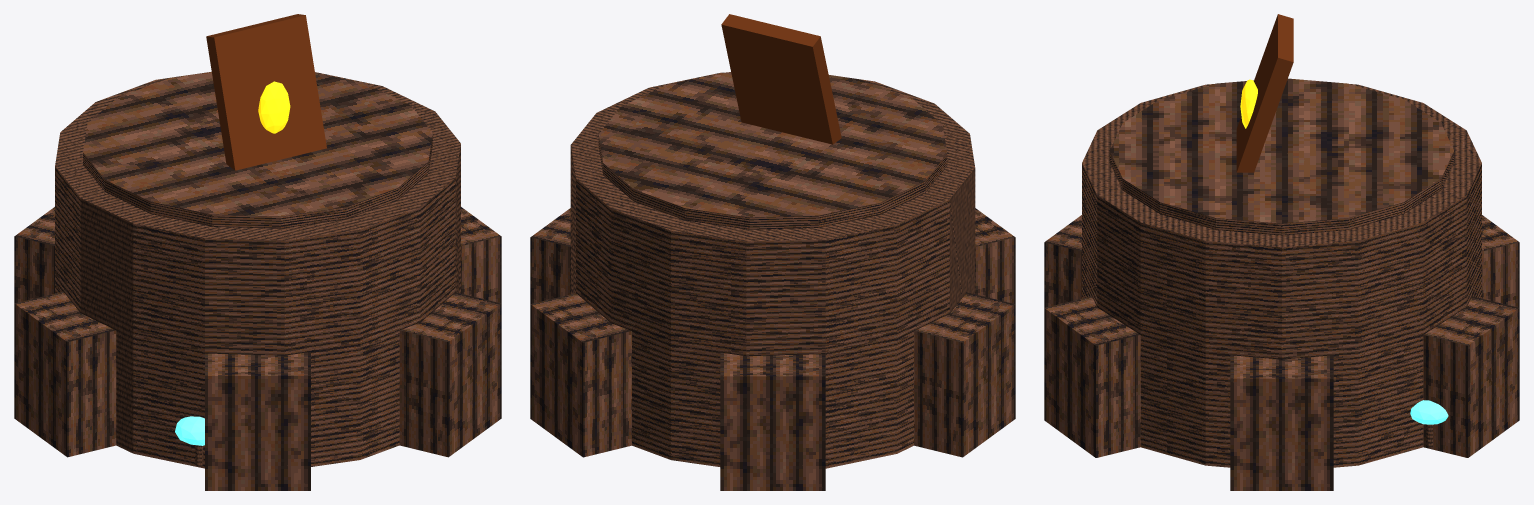
The model's file is altar_corteza.glb.
3 renders of one model, left to right at view 1: azimuth 30°, elevation 25°; view 2: azimuth 150°, elevation 25°; view 3: azimuth 270°, elevation 25°, orthographic. The views are drawn at different scales.
Visible parts, largest first — view 1: Cylinder, Cylinder.001, Cube.004, Cube.003, Cube.005, Cube.006, Cube, Cube.002, Icosphere, Icosphere.003; view 2: Cylinder, Cylinder.001, Cube.002, Cube.003, Cube.001, Cube.006, Cube, Cube.004; view 3: Cylinder, Cylinder.001, Cube, Cube.005, Cube.001, Cube.006, Cube.002, Cube.004, Icosphere.001, Icosphere.
Part boxes in pixels (x1,y1,x2,y2): Cylinder: [55, 72, 460, 468]; Cylinder.001: [83, 72, 432, 228]; Cube.004: [205, 352, 310, 490]; Cube.003: [14, 291, 116, 457]; Cube.005: [399, 292, 501, 457]; Cube.006: [206, 14, 326, 170]; Cube: [461, 207, 501, 303]; Cube.002: [14, 207, 54, 303]; Icosphere: [258, 81, 290, 133]; Icosphere.003: [175, 416, 204, 445]; Cylinder: [570, 72, 975, 468]; Cylinder.001: [598, 72, 947, 229]; Cube.002: [720, 352, 825, 490]; Cube.003: [914, 292, 1015, 457]; Cube.001: [530, 293, 631, 457]; Cube.006: [721, 14, 841, 144]; Cube: [530, 208, 570, 303]; Cube.004: [975, 208, 1015, 303]; Cylinder: [1082, 84, 1481, 467]; Cylinder.001: [1109, 78, 1454, 235]; Cube: [1230, 355, 1333, 490]; Cube.005: [1044, 296, 1140, 457]; Cube.001: [1423, 296, 1519, 457]; Cube.006: [1236, 14, 1293, 172]; Cube.002: [1482, 215, 1519, 307]; Cube.004: [1044, 215, 1081, 307]; Icosphere.001: [1410, 400, 1448, 424]; Icosphere: [1240, 79, 1257, 128].
Bounding box in the file's own units: 3.55 × 2.82 × 3.45.
4 materials, 1 textured.
